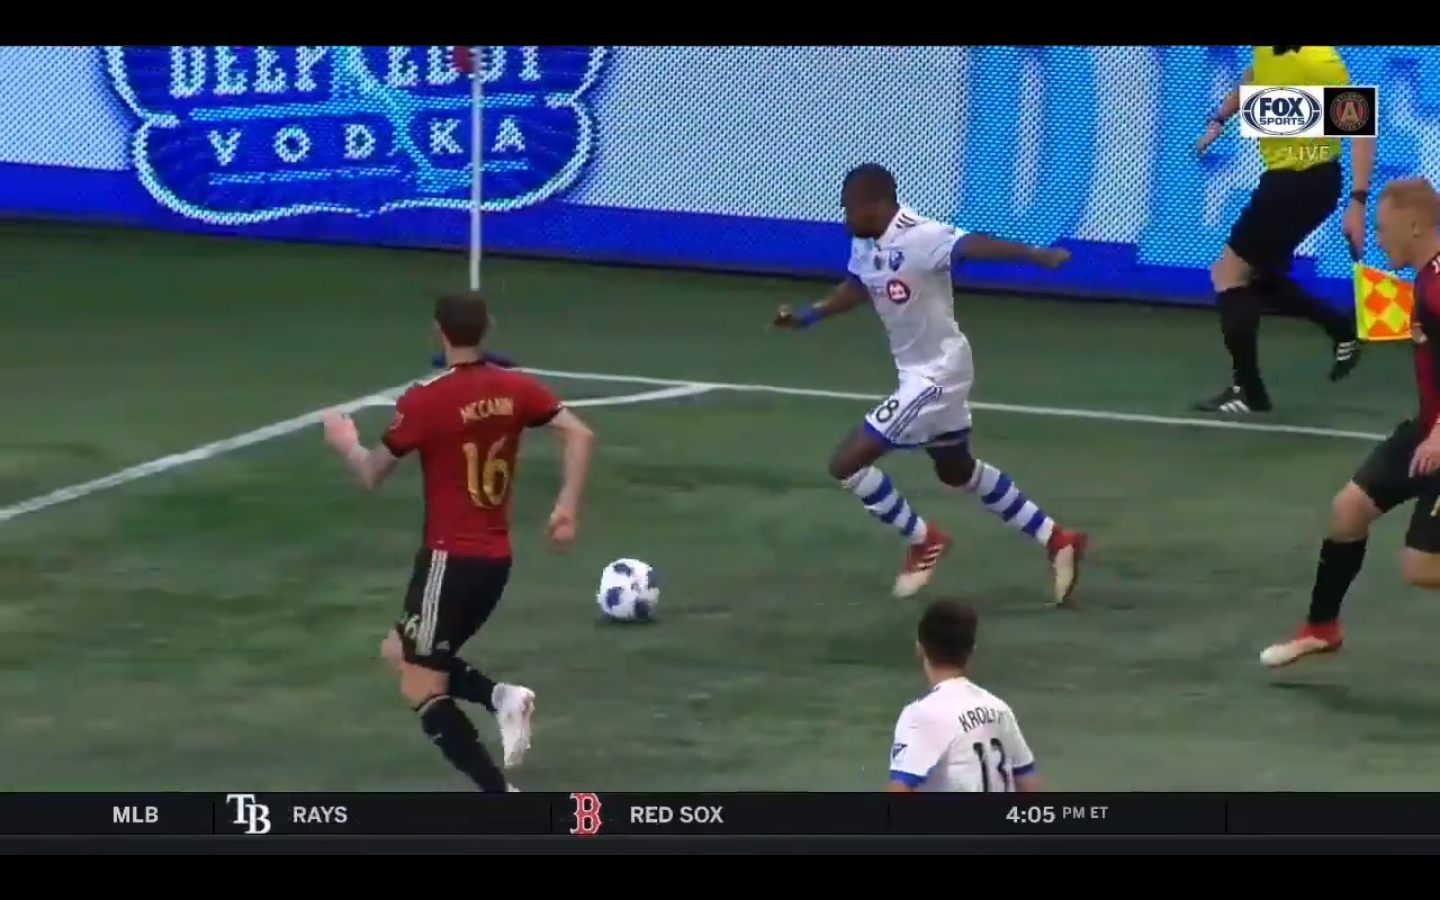referee: (1190, 46, 1384, 414)
soccer player: (764, 154, 1122, 617), (322, 289, 596, 794), (1253, 178, 1440, 677), (873, 602, 1042, 800)
soccerball: (593, 554, 667, 628)
